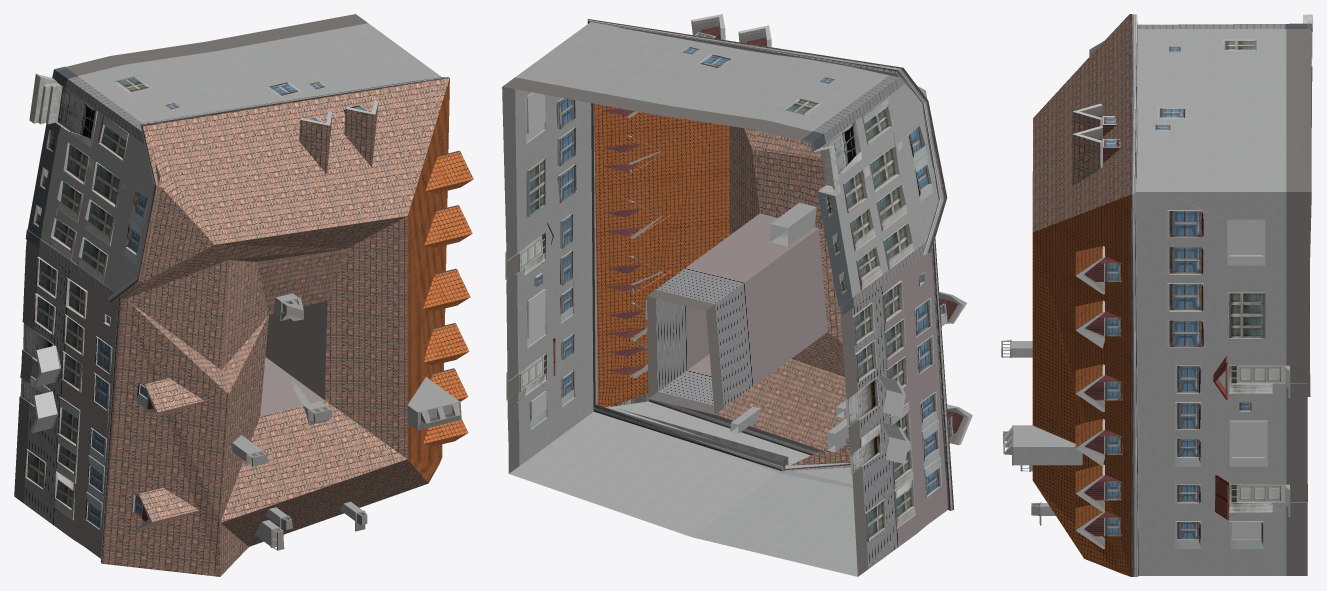
File: Uus_32-origo.obj
3 views of the same model, side by side, from view 1: azimuth 30°, elevation 25°; view 2: azimuth 150°, elevation 25°; view 3: azimuth 270°, elevation 25° (orthographic). The views are drawn at different scales.
Parts seen in each view (by area): view 1: Uus_32; view 2: Uus_32; view 3: Uus_32.
Boxes of the visible parts, box(x1,y1,x2,y2) form: Uus_32: box(14, 14, 473, 576); Uus_32: box(502, 14, 972, 576); Uus_32: box(1001, 14, 1312, 576).
Bounding box in the file's own units: 21.5 × 23.5 × 15.34.
